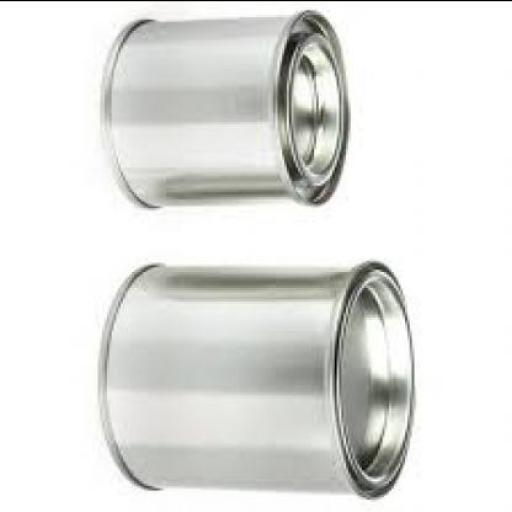metal: (102, 264, 419, 500), (104, 12, 355, 211)
